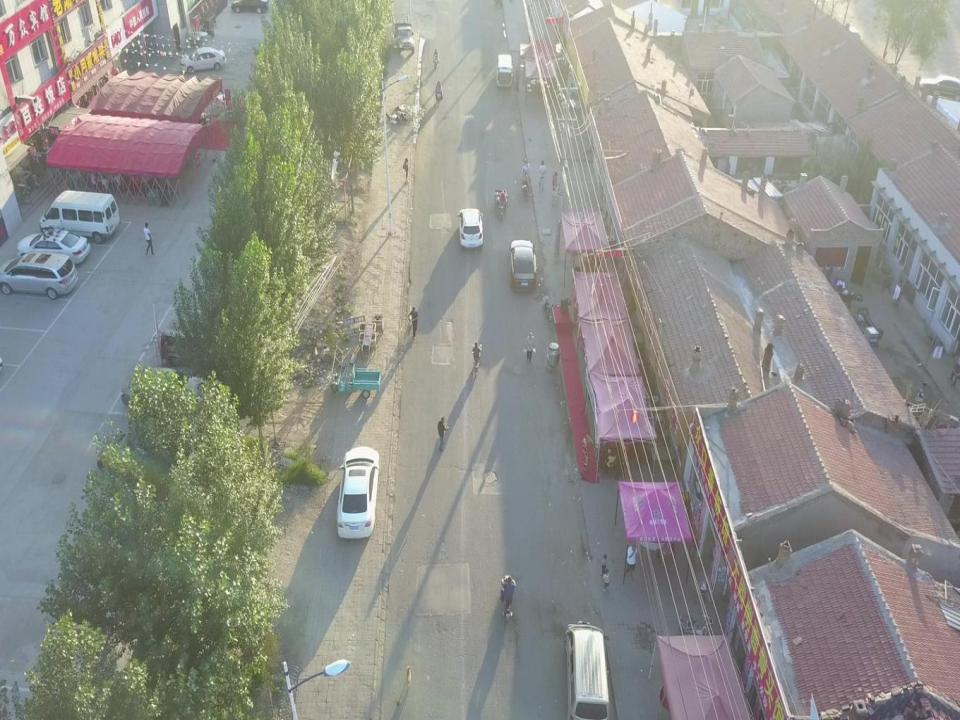car: (336, 445, 380, 539), (0, 251, 78, 299), (17, 228, 91, 264), (509, 239, 537, 293), (180, 47, 227, 74), (456, 208, 484, 248), (230, 0, 270, 13)
truck: (391, 13, 415, 54)
van: (563, 619, 611, 717), (39, 190, 121, 245), (495, 54, 513, 88)
